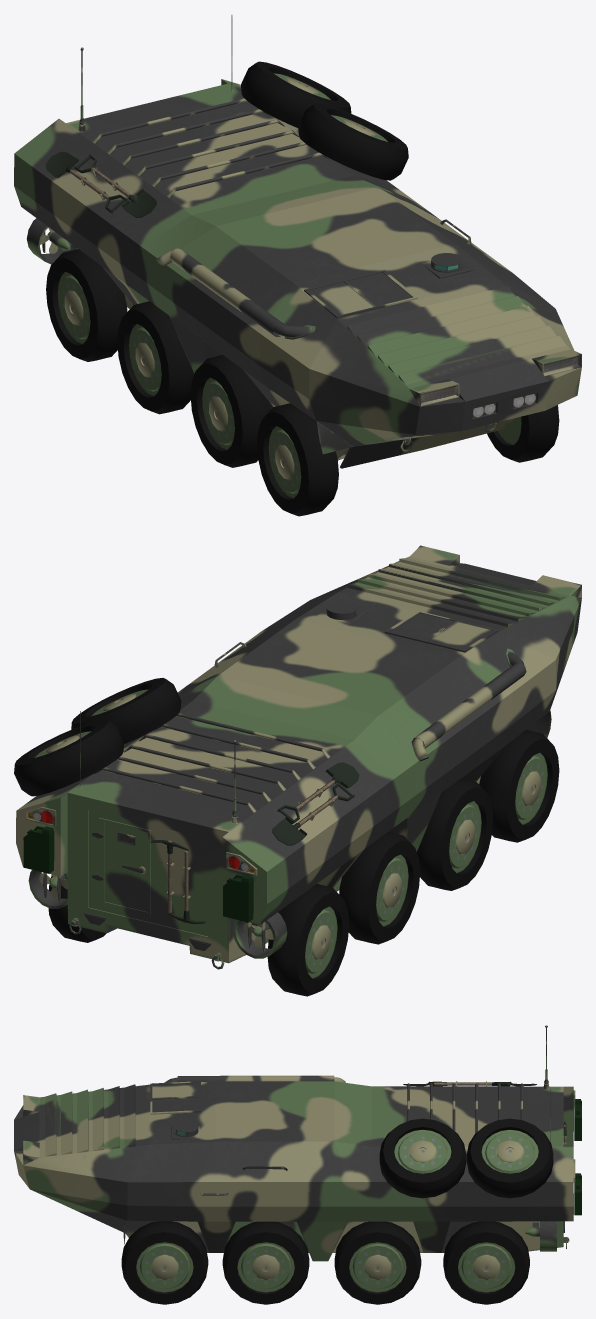
The model's file is hull.fbx.
3 views of the same model, one above another, from view 1: azimuth 30°, elevation 25°; view 2: azimuth 150°, elevation 25°; view 3: azimuth 270°, elevation 25° (orthographic). The views are drawn at different scales.
Parts seen in each view (by area): view 1: hull_LOD0, wheel5_LOD0, wheel8_LOD0, wheel6_LOD0, wheel7_LOD0, wheel1_LOD0; view 2: hull_LOD0, wheel7_LOD0, wheel8_LOD0, wheel5_LOD0, wheel6_LOD0, wheel4_LOD0; view 3: hull_LOD0, wheel1_LOD0, wheel2_LOD0, wheel3_LOD0, wheel4_LOD0.
Part boxes in pixels (left/top/right/bottom): hull_LOD0: left=14, top=15, right=581, bottom=468; wheel5_LOD0: left=257, top=403, right=338, bottom=516; wheel8_LOD0: left=46, top=249, right=127, bottom=361; wheel6_LOD0: left=190, top=355, right=270, bottom=467; wheel7_LOD0: left=117, top=301, right=194, bottom=414; wheel1_LOD0: left=487, top=405, right=559, bottom=462; hull_LOD0: left=14, top=545, right=581, bottom=969; wheel7_LOD0: left=339, top=832, right=420, bottom=944; wheel8_LOD0: left=267, top=884, right=349, bottom=996; wheel5_LOD0: left=479, top=730, right=559, bottom=842; wheel6_LOD0: left=417, top=778, right=493, bottom=890; wheel4_LOD0: left=48, top=875, right=106, bottom=942; hull_LOD0: left=14, top=1025, right=581, bottom=1261; wheel1_LOD0: left=121, top=1221, right=208, bottom=1304; wheel2_LOD0: left=222, top=1221, right=309, bottom=1304; wheel3_LOD0: left=334, top=1221, right=421, bottom=1304; wheel4_LOD0: left=443, top=1221, right=529, bottom=1304.
Size of what is drawn, in the model's own units: 5.03 by 4.4 by 10.94.
